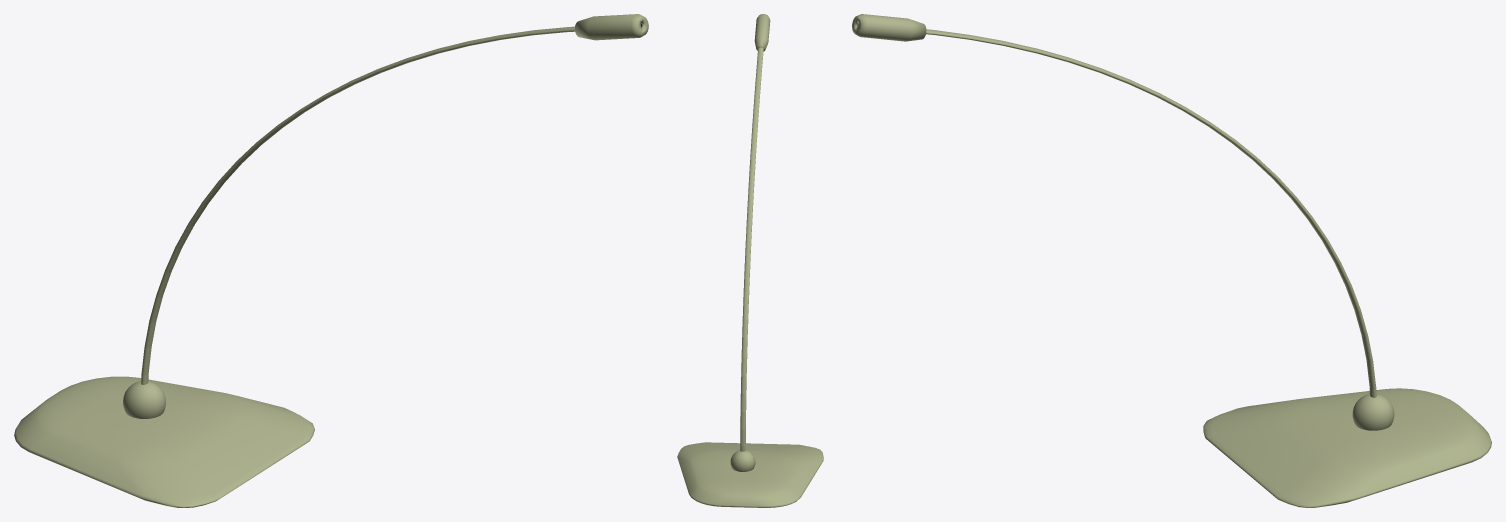
The model's file is NSMicrofono.gltf.
3 views of the same model, side by side, from view 1: azimuth 30°, elevation 25°; view 2: azimuth 150°, elevation 25°; view 3: azimuth 270°, elevation 25° (orthographic). The views are drawn at different scales.
Visible parts, largest first — view 1: Bianco Microfono; view 2: Bianco Microfono; view 3: Bianco Microfono.
Boxes of the visible parts, x1,y1,x2,y2 form: Bianco Microfono: (14,14,648,507); Bianco Microfono: (677,14,823,507); Bianco Microfono: (852,14,1491,507).
Size of the model in its own units: 0.0962 by 0.1475 by 0.1583.
